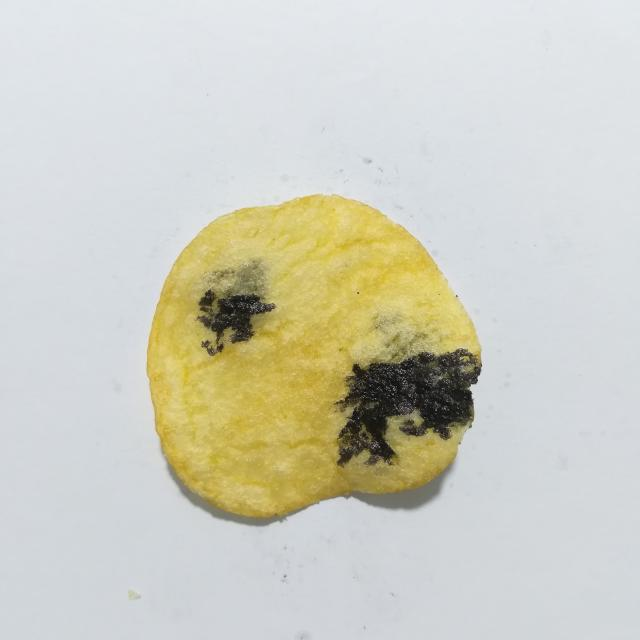chip: (147, 195, 481, 517)
damaged: (338, 349, 480, 466), (198, 289, 275, 355)
semi-damaged: (366, 310, 446, 364), (204, 258, 268, 298), (250, 312, 271, 330)
